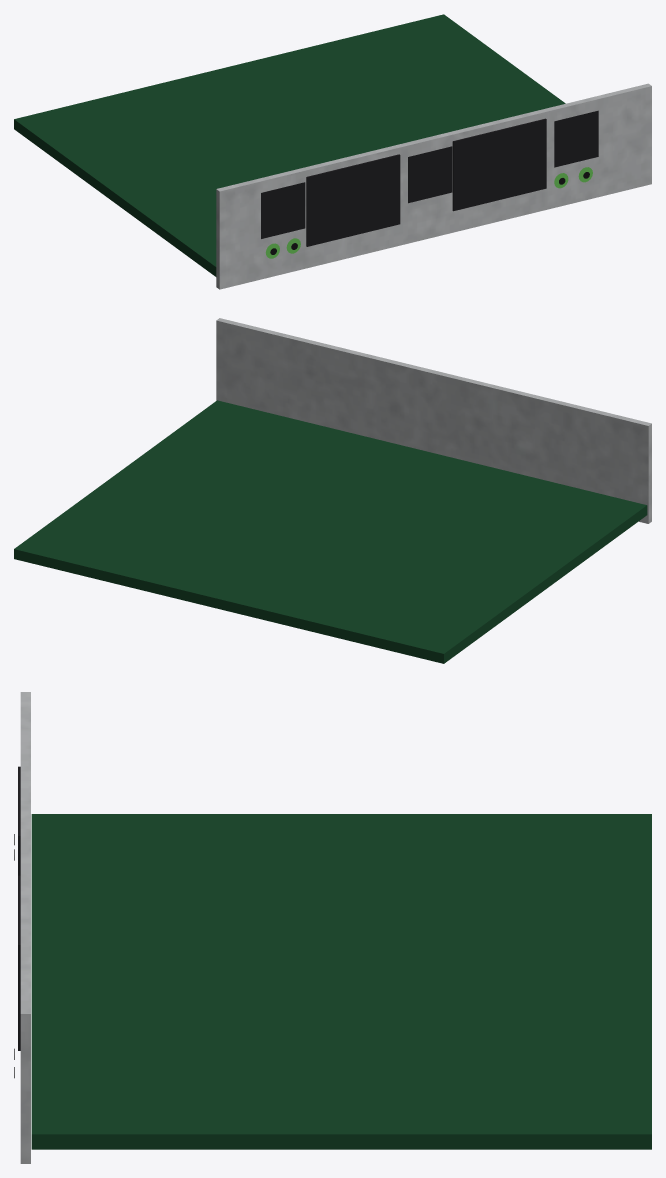
Rendered from 540-BFLP.far.glb.
The picture shows the model from 3 angles, top to bottom: view 1: azimuth 30°, elevation 25°; view 2: azimuth 150°, elevation 25°; view 3: azimuth 270°, elevation 25°; orthographic projection. The views are drawn at different scales.
Parts seen in each view (by area): view 1: Card_far; view 2: Card_far; view 3: Card_far.
Part boxes in pixels (left/top/right/bottom): Card_far: left=14, top=14, right=651, bottom=289; Card_far: left=14, top=318, right=651, bottom=663; Card_far: left=18, top=692, right=651, bottom=1163.
Bounding box in the file's own units: 0.0724 × 0.0157 × 0.0606.
Materials: 3 (2 with a texture image).
